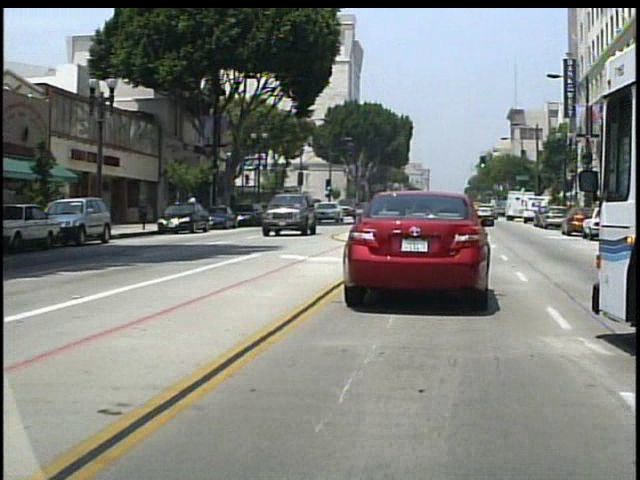person: (191, 191, 204, 224)
